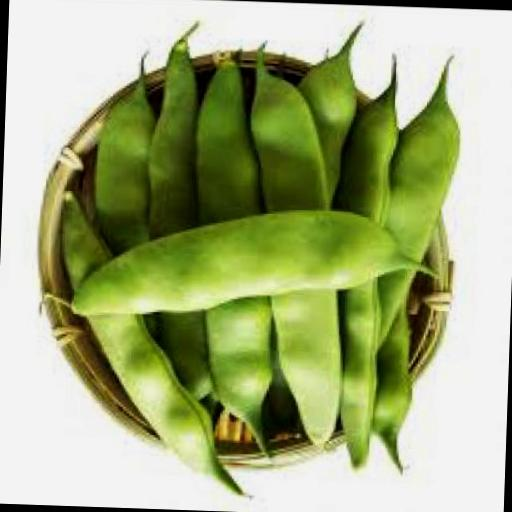biodegradable: (54, 196, 266, 498), (228, 40, 353, 447), (66, 200, 445, 334), (187, 54, 287, 458), (142, 24, 228, 418), (330, 54, 402, 472), (388, 56, 465, 356), (90, 56, 169, 342), (298, 20, 368, 204), (370, 300, 418, 472)
